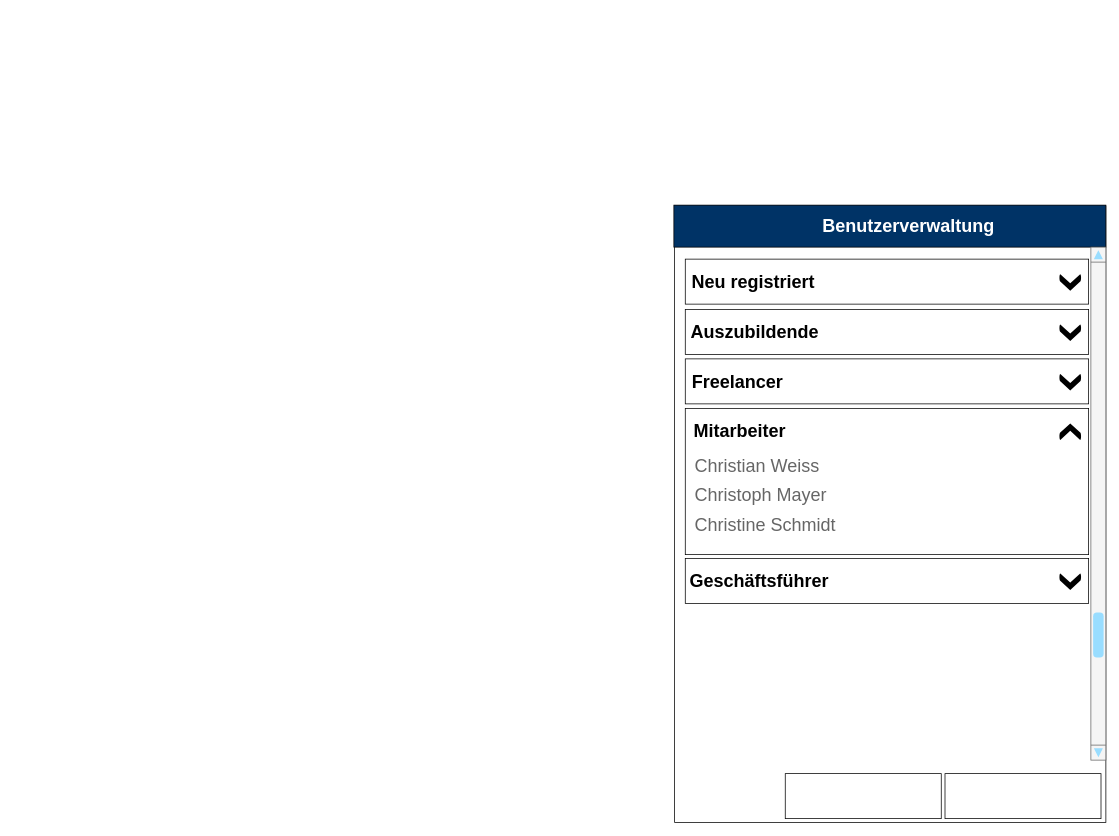
This 1119x836 diagram has some shape labels left out. The centre of each missing label's shape, as x and y in pixels:
"Abbrechen" belongs at point 862,796.
"Speichern" belongs at point 1022,796.
